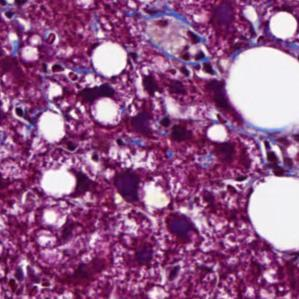inflammation: (133, 67, 191, 102), (255, 141, 288, 176)
